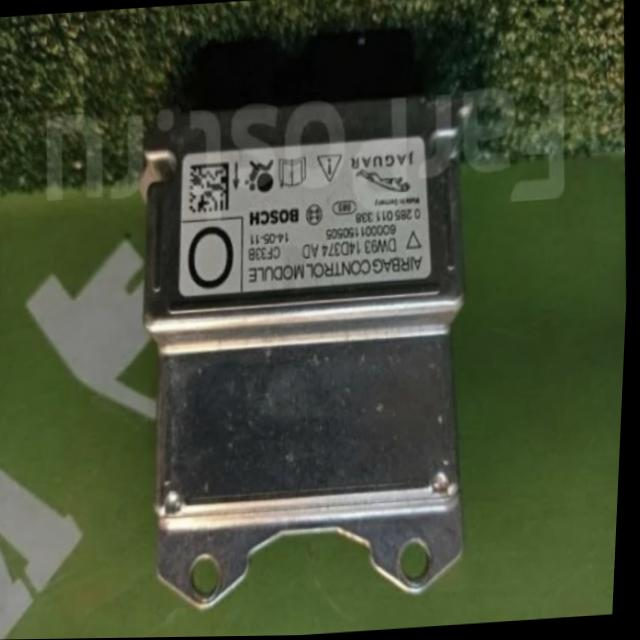datamatrix: (188, 162, 233, 215)
